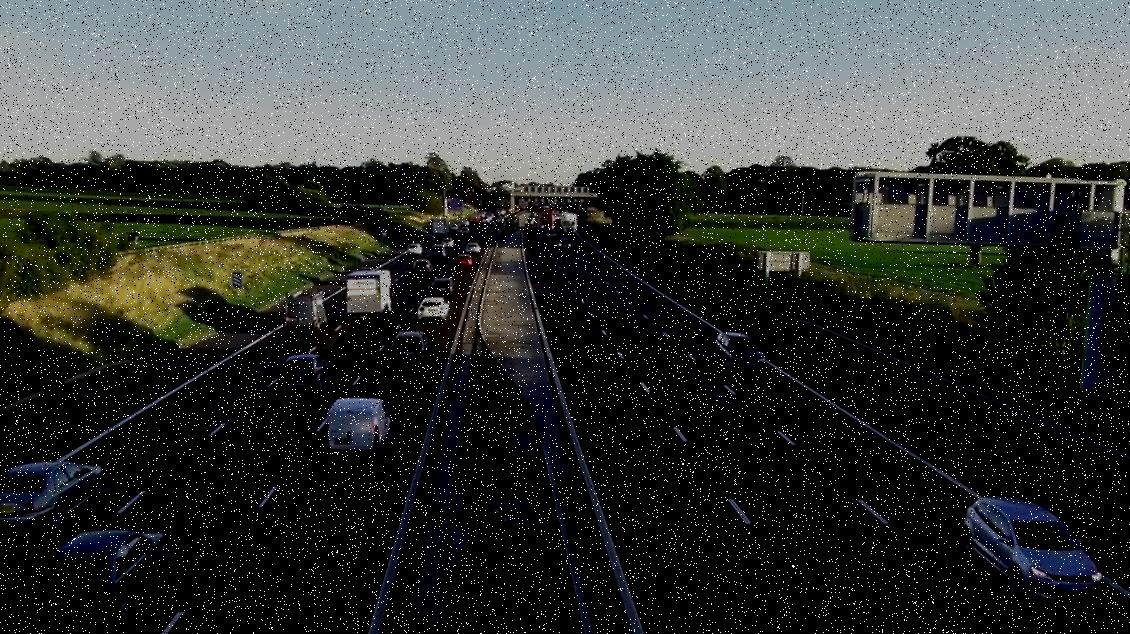car: (966, 489, 1108, 605), (34, 529, 171, 620), (0, 458, 107, 531), (323, 397, 388, 460), (280, 353, 333, 392), (714, 333, 766, 372), (285, 288, 330, 329), (386, 333, 429, 367), (417, 298, 447, 320), (428, 278, 453, 294), (412, 260, 432, 274), (457, 257, 478, 270)
truck: (343, 273, 386, 320)
